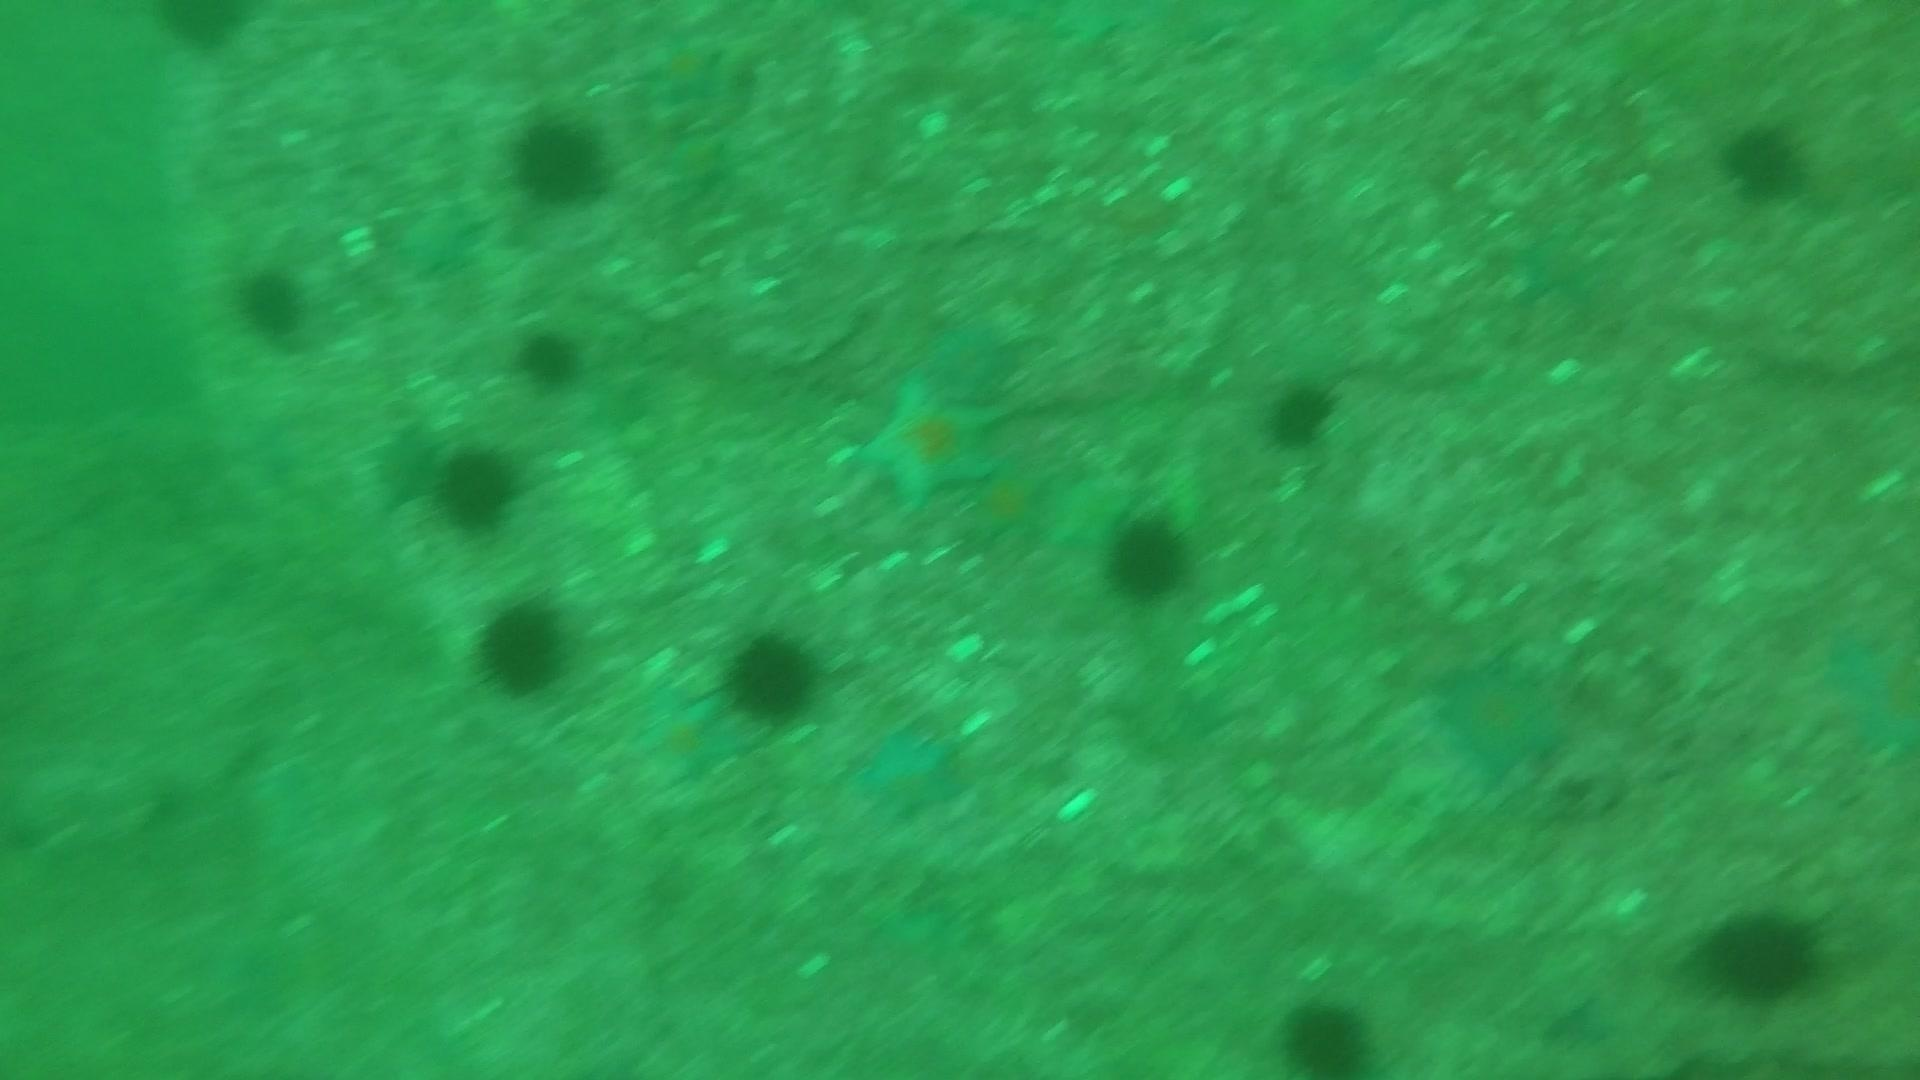echinus: (1693, 901, 1828, 1007), (469, 593, 574, 699), (504, 108, 613, 208), (717, 625, 824, 727), (427, 439, 525, 535), (1100, 509, 1196, 604), (1275, 992, 1377, 1075), (1717, 116, 1811, 204), (229, 260, 313, 343), (1259, 375, 1342, 454), (148, 0, 258, 55), (510, 320, 587, 392)
starfish: (847, 371, 1006, 514), (1427, 650, 1575, 787), (1813, 622, 1917, 767), (629, 678, 748, 787), (851, 716, 968, 823), (907, 309, 1026, 407), (1507, 218, 1615, 313), (1040, 459, 1143, 556), (380, 189, 487, 280), (961, 454, 1058, 545), (636, 33, 735, 109), (655, 127, 738, 195), (1044, 1, 1150, 49)
